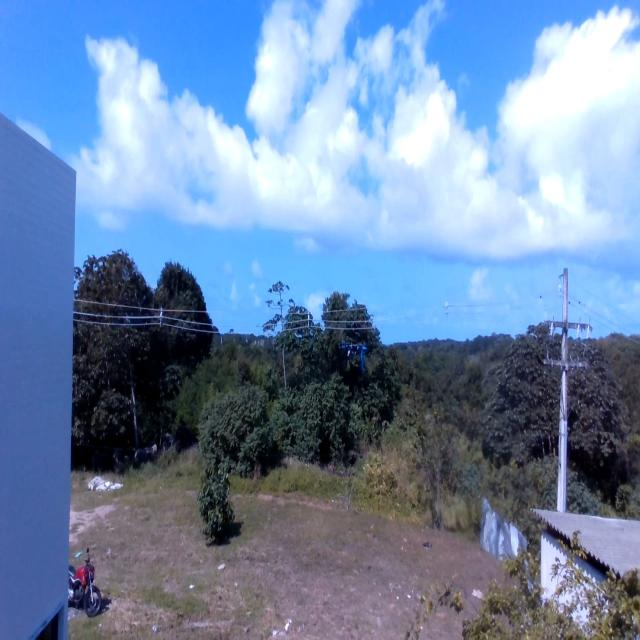-uav-: (335, 333, 375, 381)
